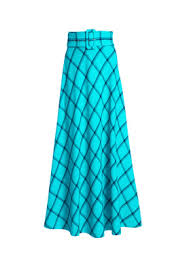C_skirt: (39, 36, 143, 237)
